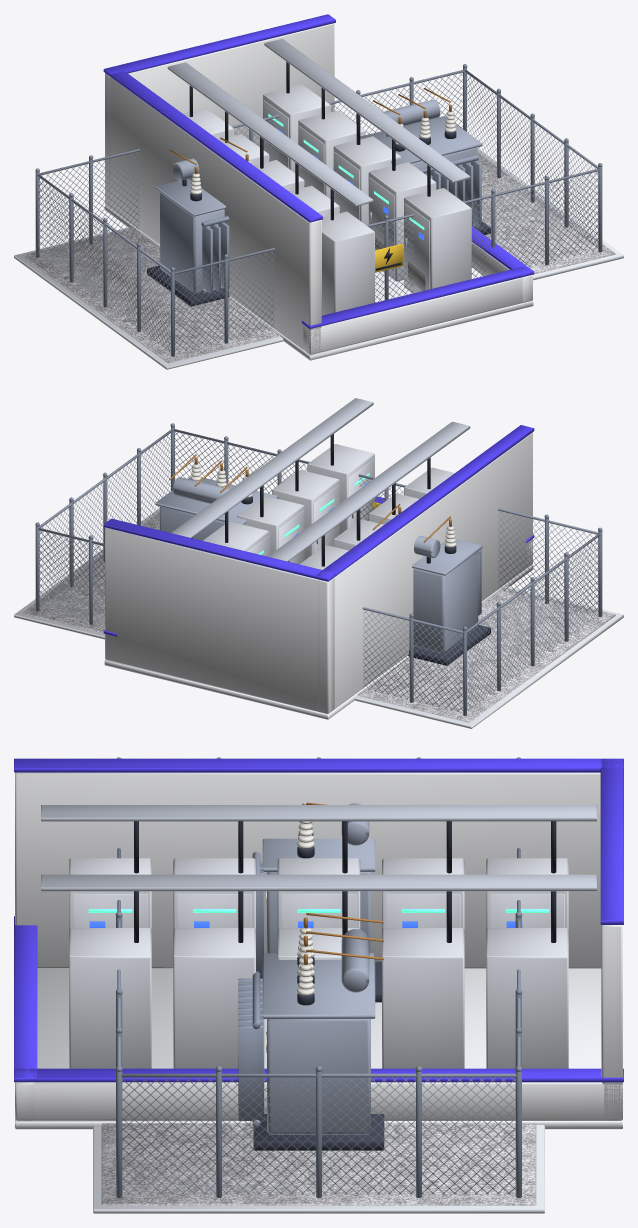
File: power.glb
3 renders of one model, top to bottom at view 1: azimuth 30°, elevation 25°; view 2: azimuth 150°, elevation 25°; view 3: azimuth 270°, elevation 25°, orthographic. The views are drawn at different scales.
Parts seen in each view (by area): view 1: battery_room_body, substation_body, substation_fence; view 2: battery_room_body, substation_body, substation_fence; view 3: battery_room_body, substation_body, substation_fence.
Part boxes in pixels (left/top/right/bottom): battery_room_body: left=103, top=14, right=534, bottom=360; substation_body: left=14, top=64, right=623, bottom=369; substation_fence: left=38, top=72, right=598, bottom=352; battery_room_body: left=103, top=398, right=534, bottom=719; substation_body: left=14, top=423, right=623, bottom=728; substation_fence: left=39, top=432, right=599, bottom=711; battery_room_body: left=14, top=758, right=623, bottom=1129; substation_body: left=93, top=757, right=544, bottom=1213; substation_fence: left=122, top=1077, right=515, bottom=1194.
Bounding box in the file's own units: 9 × 2.66 × 7.02.
20 materials, 3 textured.
